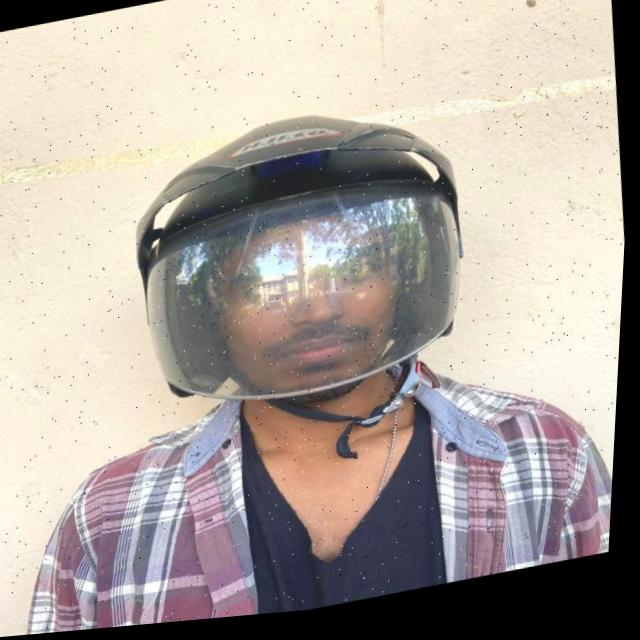helmet: (117, 91, 493, 505)
